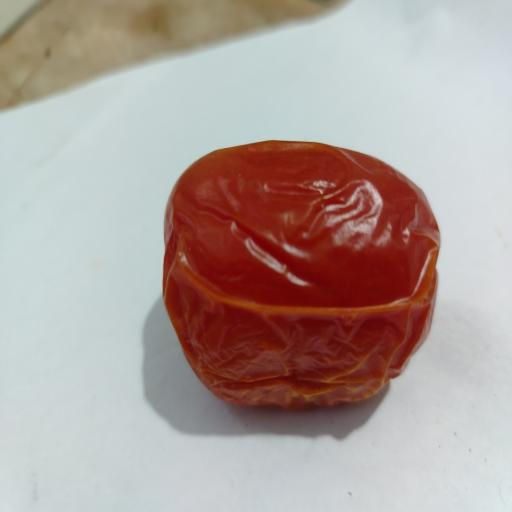spoiled: (163, 141, 440, 408)
